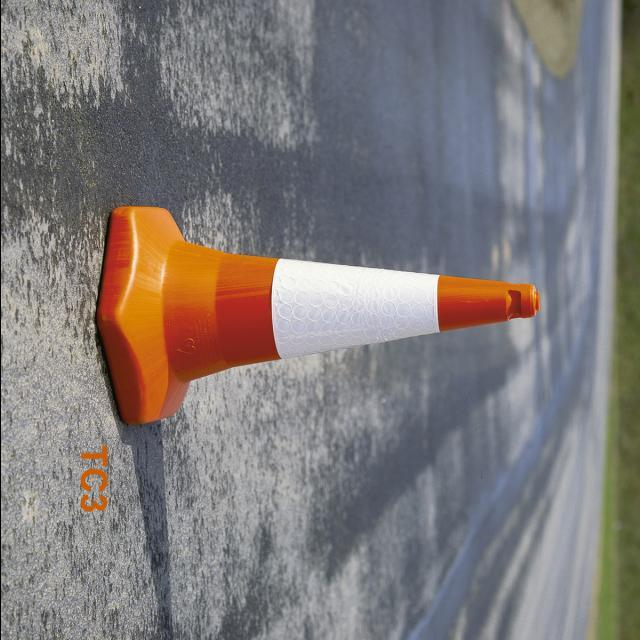traffic cone: (95, 205, 542, 426)
